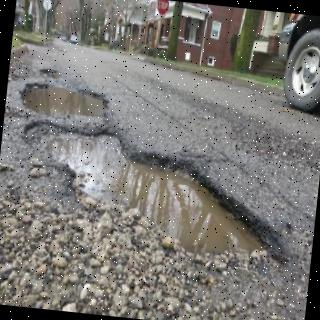pothole: (22, 120, 290, 264), (22, 85, 106, 118), (39, 68, 59, 78)
